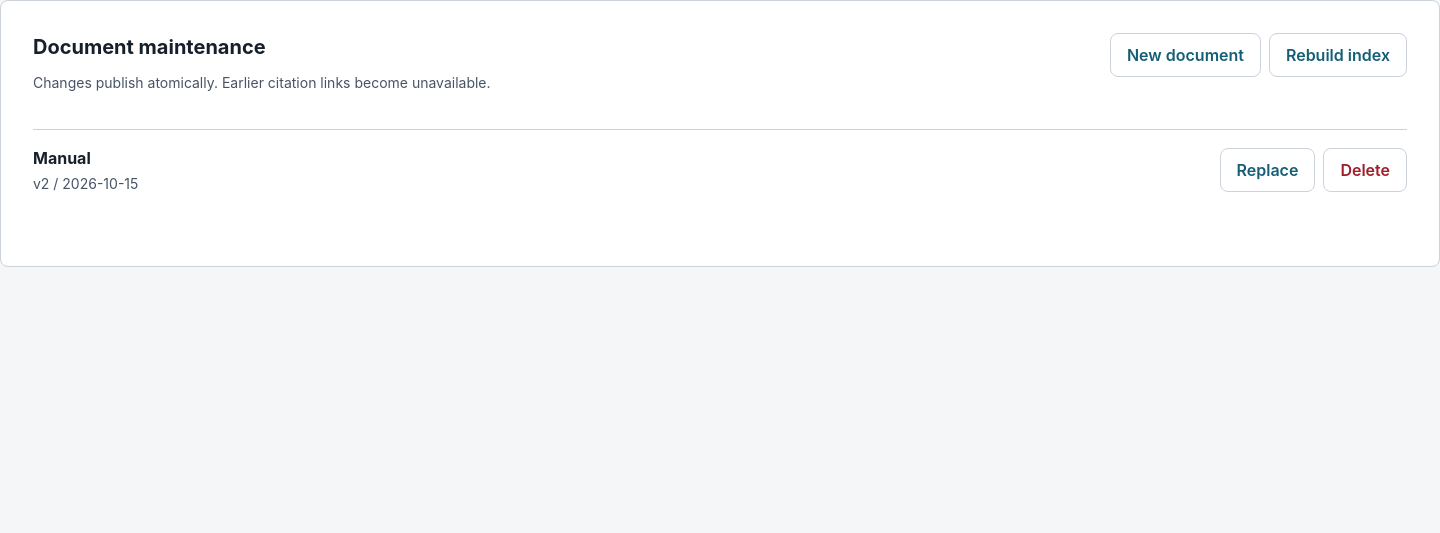
Test: keeps the pending job accessible and blocks another submission until cancellation
Click the button "Rebuild index" at (1338, 55), box 1269,33 -> 1407,77
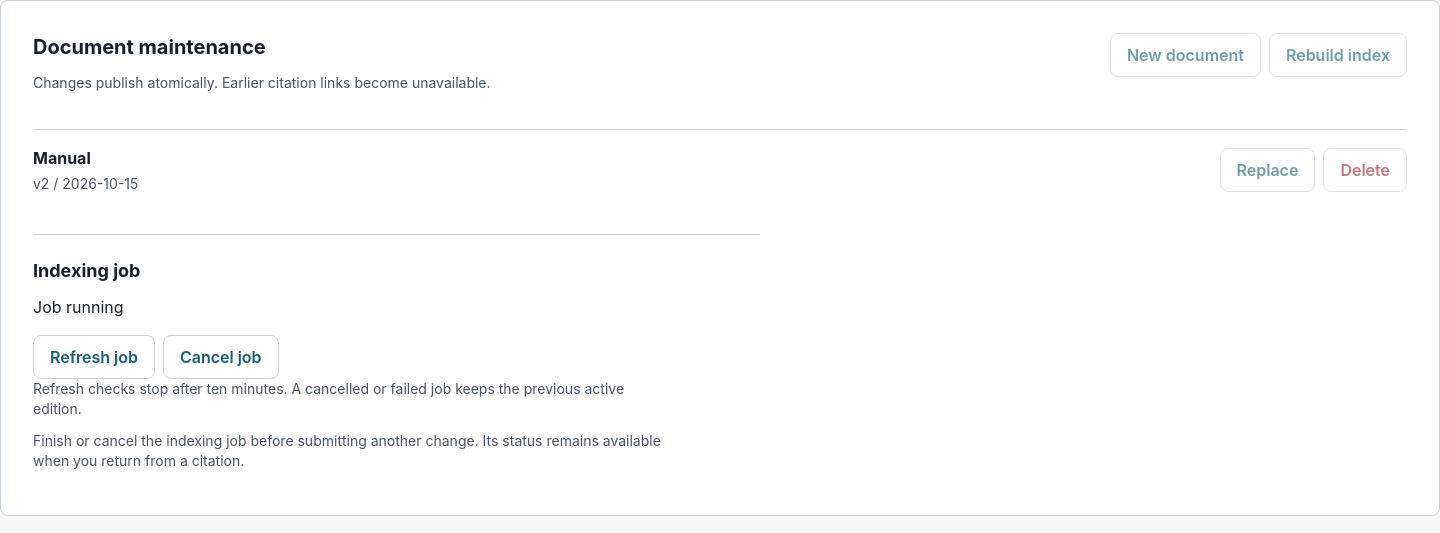
Expected: the text "Job running" is shown, 33,297 -> 124,317
Expected: the button "New document" is disabled, 1110,33 -> 1261,77
Expected: the button with aria-label "Replace Manual" is disabled, 1220,148 -> 1315,192
Click the button "Cancel job" at (221, 357), box 163,335 -> 279,379
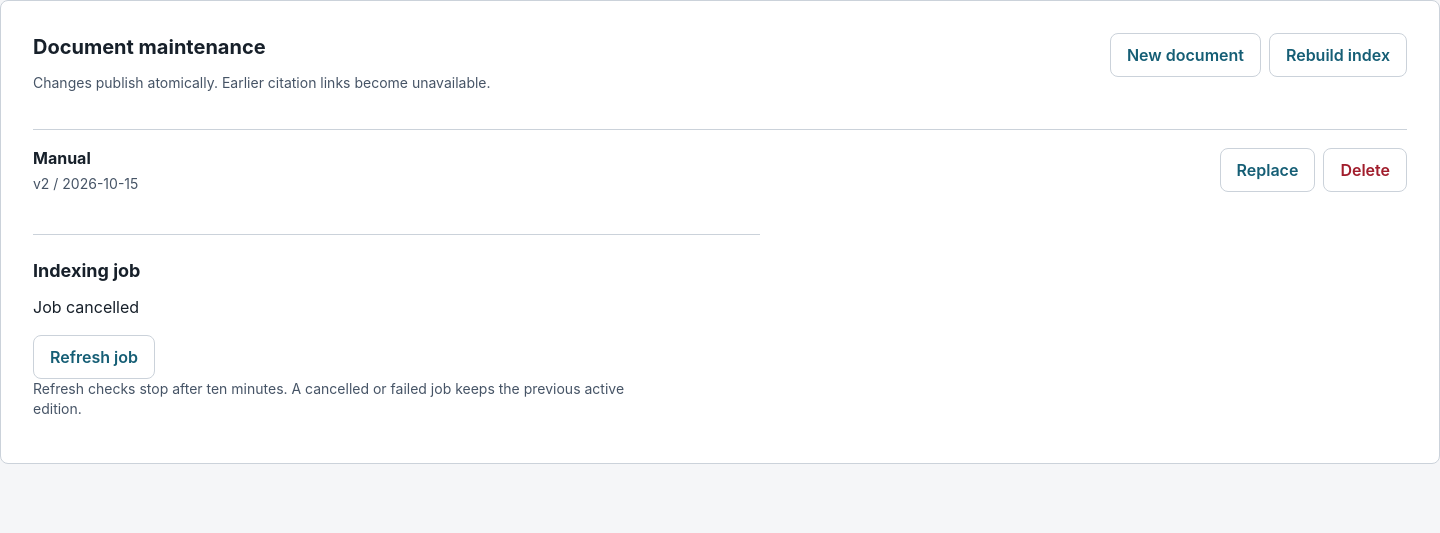
Expected: the button "New document" is enabled, 1110,33 -> 1261,77
